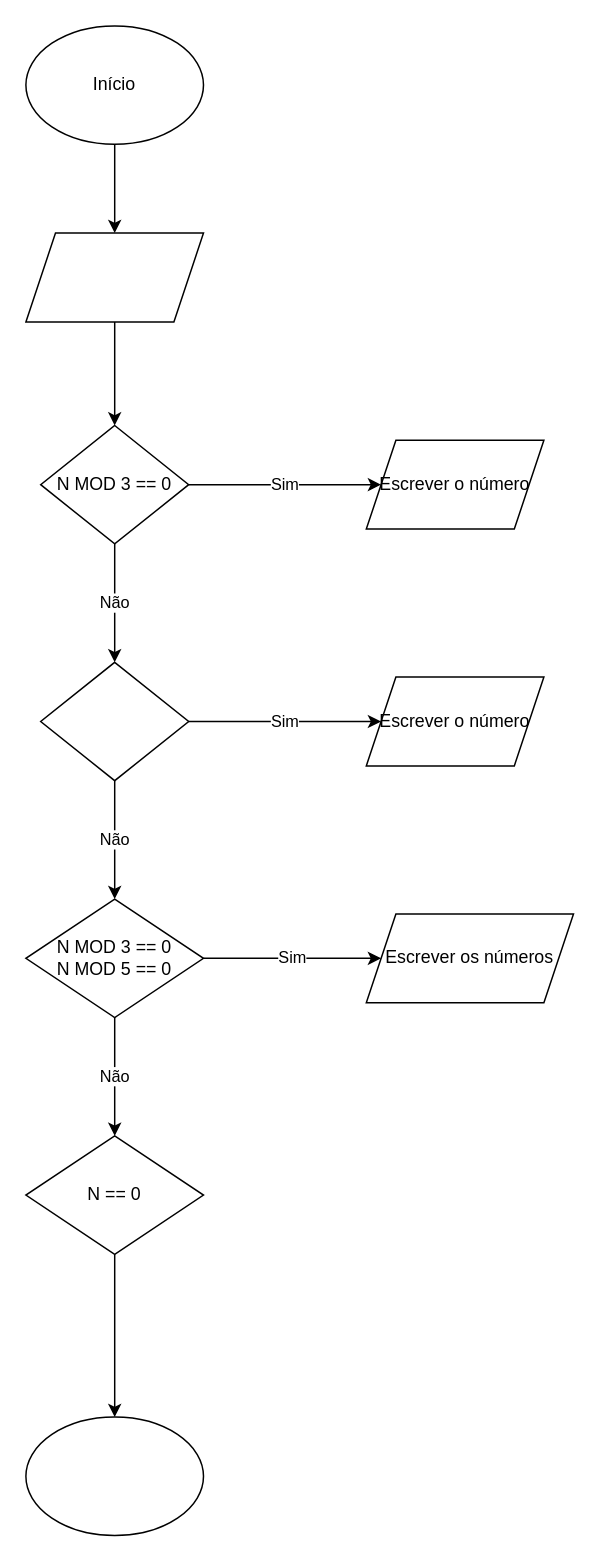
Some shapes in this 599 by 1561 pixel diagram are drawn without their labels. Here are the shapes that lost their labels. From the top down, the centre of each, then its label:
the point at 114,277: Ler n
the point at 114,721: N MOD 5 == 0
the point at 114,1476: Fim
